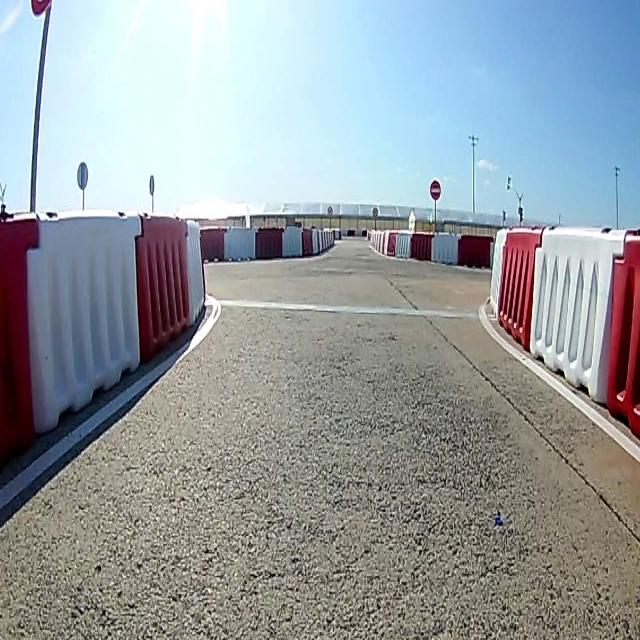girisyok: (428, 177, 442, 199)
